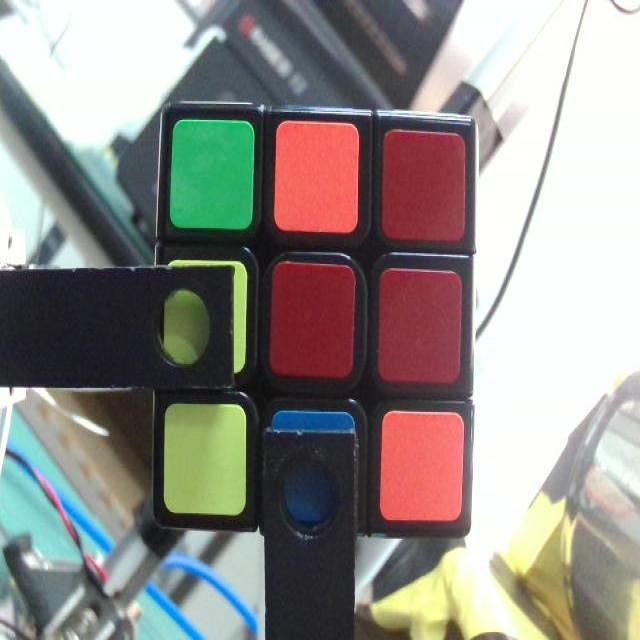b: (273, 408, 361, 527)
g: (172, 124, 255, 226)
o: (381, 411, 464, 524), (276, 120, 356, 232)
r: (267, 258, 355, 378), (379, 272, 462, 384), (386, 130, 468, 240)
y: (165, 405, 248, 514), (165, 261, 245, 371)
